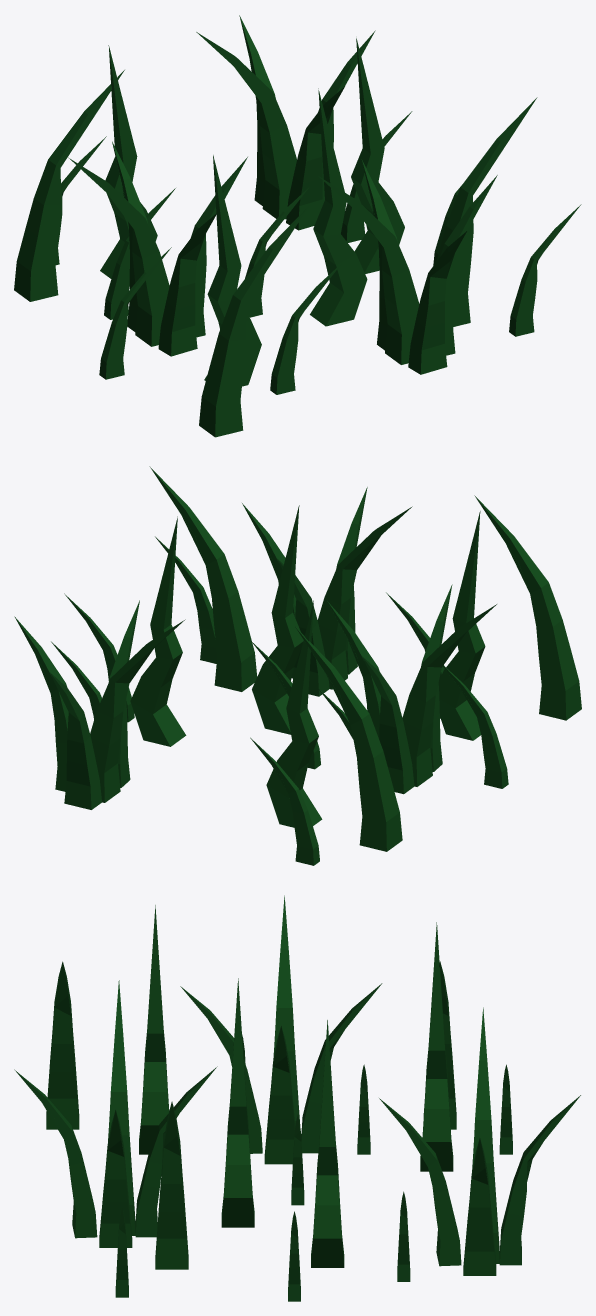
The model's file is grass.fbx.
The picture shows the model from 3 angles, top to bottom: view 1: azimuth 30°, elevation 25°; view 2: azimuth 150°, elevation 25°; view 3: azimuth 270°, elevation 25°; orthographic projection. The views are drawn at different scales.
Parts seen in each view (by area): view 1: pyramid; view 2: pyramid; view 3: pyramid.
Part boxes in pixels (x1,y1,x2,y2): pyramid: [14, 15, 581, 437]; pyramid: [14, 466, 581, 865]; pyramid: [14, 895, 580, 1301].
Bounding box in the file's own units: 98.53 × 50.61 × 107.
Materials: 1 (1 with a texture image).
